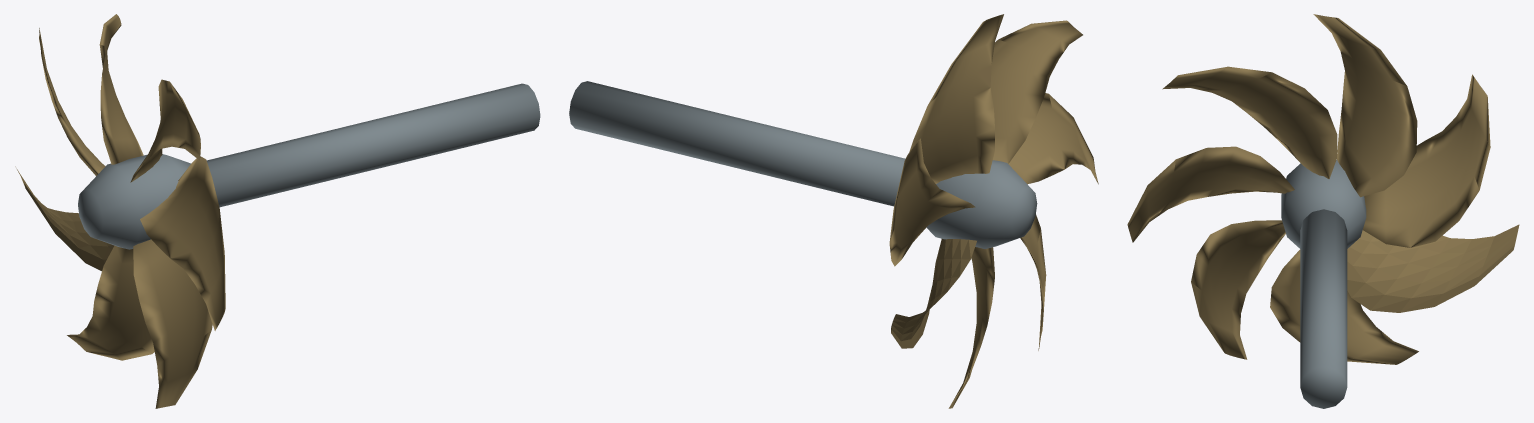
The model's file is US_PROP_LosAngeles_LOD2.fbx.
3 renders of one model, left to right at view 1: azimuth 30°, elevation 25°; view 2: azimuth 150°, elevation 25°; view 3: azimuth 270°, elevation 25°, orthographic. The views are drawn at different scales.
Parts seen in each view (by area): view 1: US_PROP_LosAngeles_LOD2_Shaft.001, US_PROP_LosAngeles_LOD2_Blade_04.001, US_PROP_LosAngeles_LOD2_Blade_03.001, US_PROP_LosAngeles_LOD2_Hub.001, US_PROP_LosAngeles_LOD2_Blade_05.001, US_PROP_LosAngeles_LOD2_Blade_01.001, US_PROP_LosAngeles_LOD2_Blade_02.001, US_PROP_LosAngeles_LOD2_Blade_06.001, US_PROP_LosAngeles_LOD2_Blade_00.001; view 2: US_PROP_LosAngeles_LOD2_Shaft.001, US_PROP_LosAngeles_LOD2_Blade_01.001, US_PROP_LosAngeles_LOD2_Blade_02.001, US_PROP_LosAngeles_LOD2_Hub.001, US_PROP_LosAngeles_LOD2_Blade_03.001, US_PROP_LosAngeles_LOD2_Blade_00.001, US_PROP_LosAngeles_LOD2_Blade_06.001, US_PROP_LosAngeles_LOD2_Blade_05.001, US_PROP_LosAngeles_LOD2_Blade_04.001; view 3: US_PROP_LosAngeles_LOD2_Blade_00.001, US_PROP_LosAngeles_LOD2_Blade_01.001, US_PROP_LosAngeles_LOD2_Blade_06.001, US_PROP_LosAngeles_LOD2_Shaft.001, US_PROP_LosAngeles_LOD2_Blade_02.001, US_PROP_LosAngeles_LOD2_Blade_04.001, US_PROP_LosAngeles_LOD2_Blade_03.001, US_PROP_LosAngeles_LOD2_Blade_05.001, US_PROP_LosAngeles_LOD2_Hub.001.
Boxes of the visible parts, box(x1,y1,x2,y2) form: US_PROP_LosAngeles_LOD2_Shaft.001: box(206, 83, 540, 207); US_PROP_LosAngeles_LOD2_Blade_04.001: box(133, 239, 212, 408); US_PROP_LosAngeles_LOD2_Blade_03.001: box(140, 156, 225, 330); US_PROP_LosAngeles_LOD2_Hub.001: box(78, 154, 190, 249); US_PROP_LosAngeles_LOD2_Blade_05.001: box(67, 245, 154, 360); US_PROP_LosAngeles_LOD2_Blade_01.001: box(99, 14, 143, 164); US_PROP_LosAngeles_LOD2_Blade_02.001: box(130, 79, 200, 182); US_PROP_LosAngeles_LOD2_Blade_06.001: box(15, 166, 114, 271); US_PROP_LosAngeles_LOD2_Blade_00.001: box(39, 28, 105, 175); US_PROP_LosAngeles_LOD2_Shaft.001: box(569, 81, 905, 206); US_PROP_LosAngeles_LOD2_Blade_01.001: box(909, 14, 1003, 183); US_PROP_LosAngeles_LOD2_Blade_02.001: box(990, 20, 1082, 163); US_PROP_LosAngeles_LOD2_Hub.001: box(926, 160, 1037, 248); US_PROP_LosAngeles_LOD2_Blade_03.001: box(1008, 93, 1098, 184); US_PROP_LosAngeles_LOD2_Blade_00.001: box(889, 138, 975, 266); US_PROP_LosAngeles_LOD2_Blade_06.001: box(891, 239, 976, 348); US_PROP_LosAngeles_LOD2_Blade_05.001: box(948, 247, 994, 408); US_PROP_LosAngeles_LOD2_Blade_04.001: box(1020, 214, 1046, 350); US_PROP_LosAngeles_LOD2_Blade_00.001: box(1363, 74, 1490, 247); US_PROP_LosAngeles_LOD2_Blade_01.001: box(1313, 14, 1417, 197); US_PROP_LosAngeles_LOD2_Blade_06.001: box(1347, 224, 1519, 312); US_PROP_LosAngeles_LOD2_Shaft.001: box(1300, 209, 1347, 408); US_PROP_LosAngeles_LOD2_Blade_02.001: box(1162, 66, 1337, 178); US_PROP_LosAngeles_LOD2_Blade_04.001: box(1191, 220, 1285, 359); US_PROP_LosAngeles_LOD2_Blade_03.001: box(1127, 146, 1294, 242); US_PROP_LosAngeles_LOD2_Blade_05.001: box(1270, 249, 1418, 364); US_PROP_LosAngeles_LOD2_Hub.001: box(1281, 160, 1366, 248).
Size of the model in its own units: 612 by 485 by 474.
